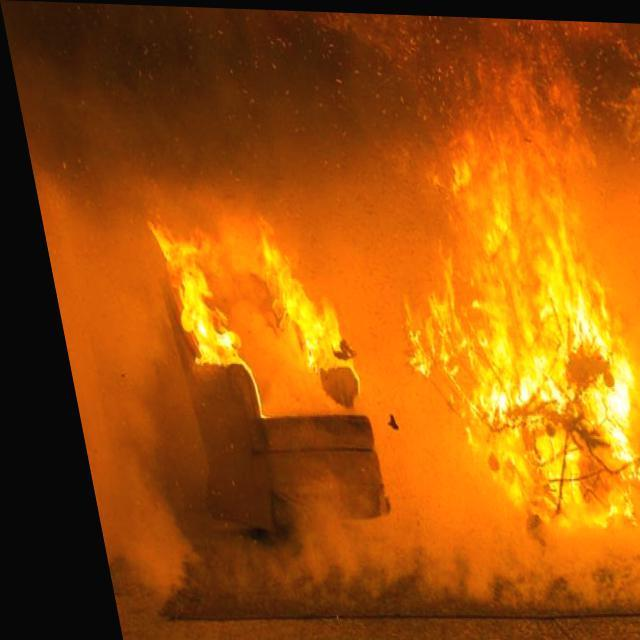Fire: (347, 108, 639, 535), (104, 151, 394, 493)
